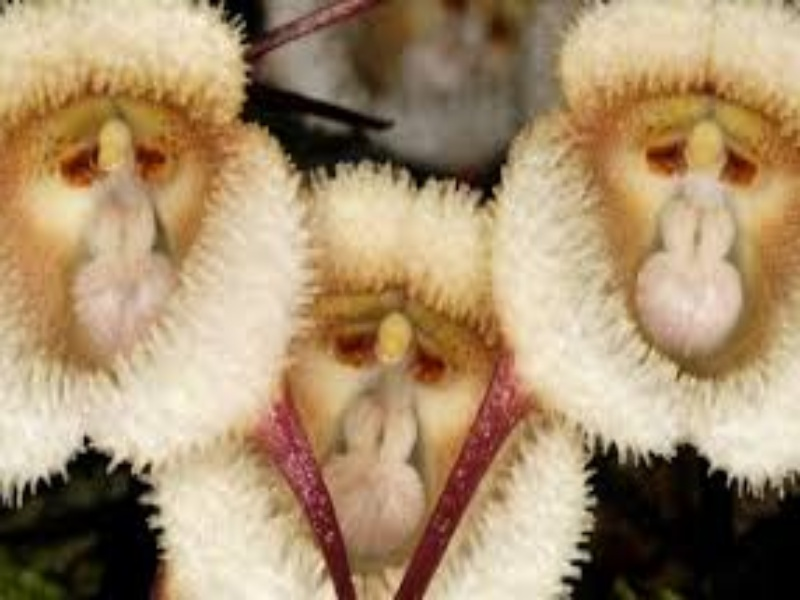monkey: (4, 25, 782, 568)
